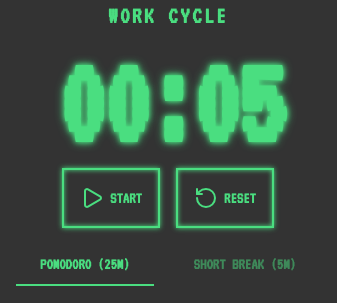
Test: Timer › resets the timer when in break mode
This screenshot has width=337, height=303.
// Switch to break mode
Click the button with test id "timer-break-mode" at (245,265), box [170, 244, 320, 286]
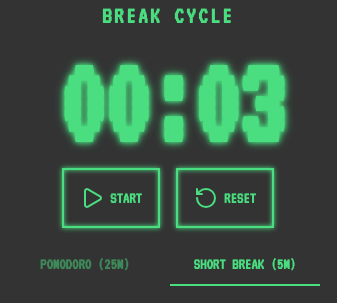
Check: the heading with test id "timer-mode" reads "BREAK CYCLE", box [102, 4, 234, 28]
// Start and advance
Click the button with test id "timer-toggle" at (111,198), box [62, 168, 160, 228]
Wait 1000 ms
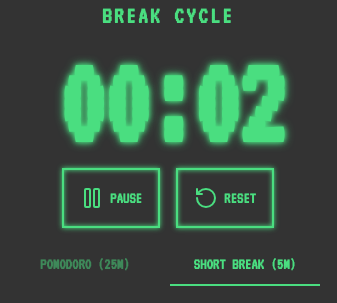
// Reset in break mode
Click the button with test id "timer-reset" at (225,198), box [176, 168, 274, 228]
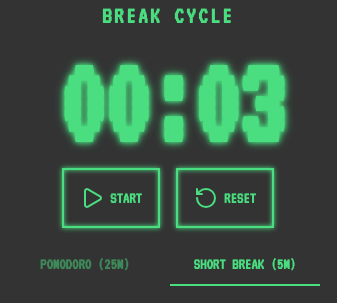
Check: the text with test id "timer-display" reads "00:03", box [56, 40, 280, 168]
